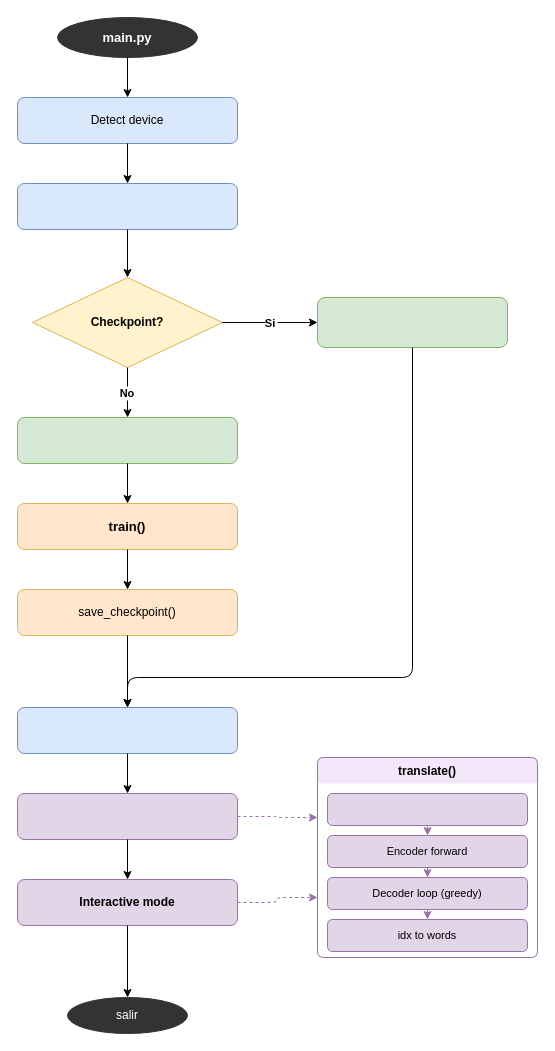
Image size: 555x1051. Some labels were removed from this diagram. The shapes that lost their labels are listed below. From the top down, each one's centre as x and y in pixels, then its label:
At point 127,206: "Create Transformer".
At point 412,322: "load_checkpoint()".
At point 127,440: "load_data()".
At point 127,730: "Build idx_to_word".
At point 127,816: "Demo translations".
At point 427,809: "encode()".
